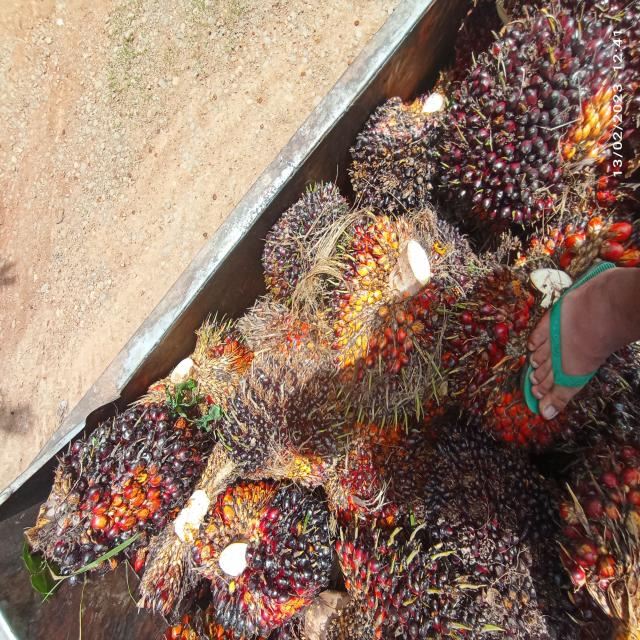fraksi 00: (24, 408, 199, 589), (404, 402, 562, 597), (320, 221, 459, 429), (186, 471, 339, 630), (218, 351, 352, 483), (346, 89, 458, 216), (246, 178, 362, 294)
fraksi 1: (442, 0, 640, 228)
fraksi 3: (445, 224, 638, 456), (322, 434, 414, 536)
